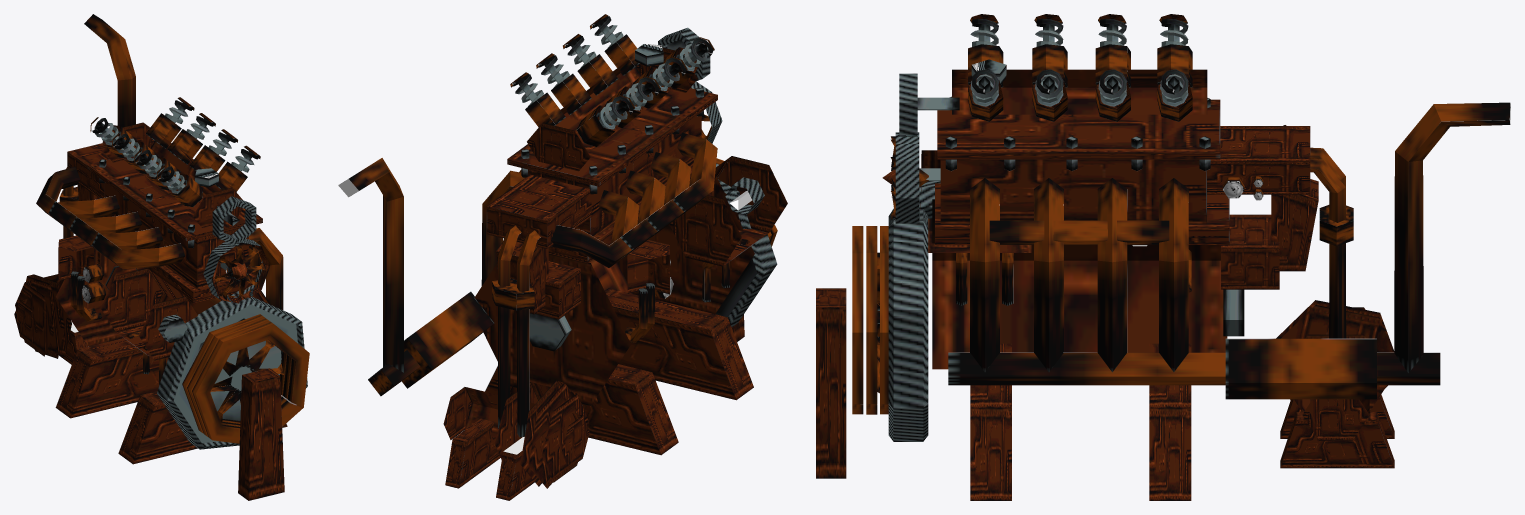
Rendered from Schiff_Motor2_853.glb.
3 views of the same model, side by side, from view 1: azimuth 30°, elevation 25°; view 2: azimuth 150°, elevation 25°; view 3: azimuth 270°, elevation 25° (orthographic). The views are drawn at different scales.
Parts seen in each view (by area): view 1: pTorusShape5, pPlaneShape100, pPlaneShape90, pTorusShape1, pPlaneShape41, pPlaneShape80, pPlaneShape54, pCylinderShape186, pTorusShape6, pPlaneShape95, pCylinderShape203, pPlaneShape45 (+44 smaller); view 2: pPlaneShape54, pPlaneShape94, pCylinderShape186, pPlaneShape41, pPlaneShape55, pPlaneShape89, pPlaneShape80, pCylinderShape263, pCylinderShape203, pPlaneShape45, pPlaneShape51, pPlaneShape81 (+55 smaller); view 3: pCylinderShape254, pPlaneShape44, pPlaneShape41, pCylinderShape264, pCylinderShape263, pCylinderShape186, pTorusShape1, pCylinderShape253, pPlaneShape101, pCylinderShape70, pCylinderShape73, pCylinderShape72 (+32 smaller).
Part boxes in pixels (<box>): pTorusShape5: <box>192,321,309,443</box>; pPlaneShape100: <box>248,376,284,500</box>; pPlaneShape90: <box>70,349,168,418</box>; pTorusShape1: <box>157,291,307,449</box>; pPlaneShape41: <box>88,159,262,237</box>; pPlaneShape80: <box>100,268,162,332</box>; pPlaneShape54: <box>56,248,144,346</box>; pCylinderShape186: <box>84,14,135,127</box>; pTorusShape6: <box>173,304,297,443</box>; pPlaneShape95: <box>133,404,287,464</box>; pCylinderShape203: <box>36,166,119,218</box>; pPlaneShape45: <box>104,183,197,288</box>; pPlaneShape54: <box>474,254,630,405</box>; pPlaneShape94: <box>612,306,736,399</box>; pCylinderShape186: <box>349,158,403,372</box>; pPlaneShape41: <box>507,88,717,181</box>; pPlaneShape55: <box>617,176,754,313</box>; pPlaneShape89: <box>485,366,660,454</box>; pPlaneShape80: <box>669,195,741,266</box>; pCylinderShape263: <box>407,291,494,386</box>; pCylinderShape203: <box>551,190,638,267</box>; pPlaneShape45: <box>590,115,701,236</box>; pPlaneShape51: <box>487,174,589,220</box>; pPlaneShape81: <box>717,156,787,232</box>; pCylinderShape254: <box>932,199,1227,369</box>; pPlaneShape44: <box>940,159,1206,223</box>; pPlaneShape41: <box>937,99,1220,153</box>; pCylinderShape264: <box>948,352,1440,385</box>; pCylinderShape263: <box>1225,338,1376,399</box>; pCylinderShape186: <box>1394,102,1510,372</box>; pTorusShape1: <box>888,208,928,441</box>; pCylinderShape253: <box>952,69,1207,114</box>; pPlaneShape101: <box>816,307,846,478</box>; pCylinderShape70: <box>970,178,999,371</box>; pCylinderShape73: <box>1159,178,1188,371</box>; pCylinderShape72: <box>1097,178,1127,372</box>.
Bounding box in the file's own units: 0.6151 × 0.9801 × 1.45.
Materials: 195 (189 with a texture image).
